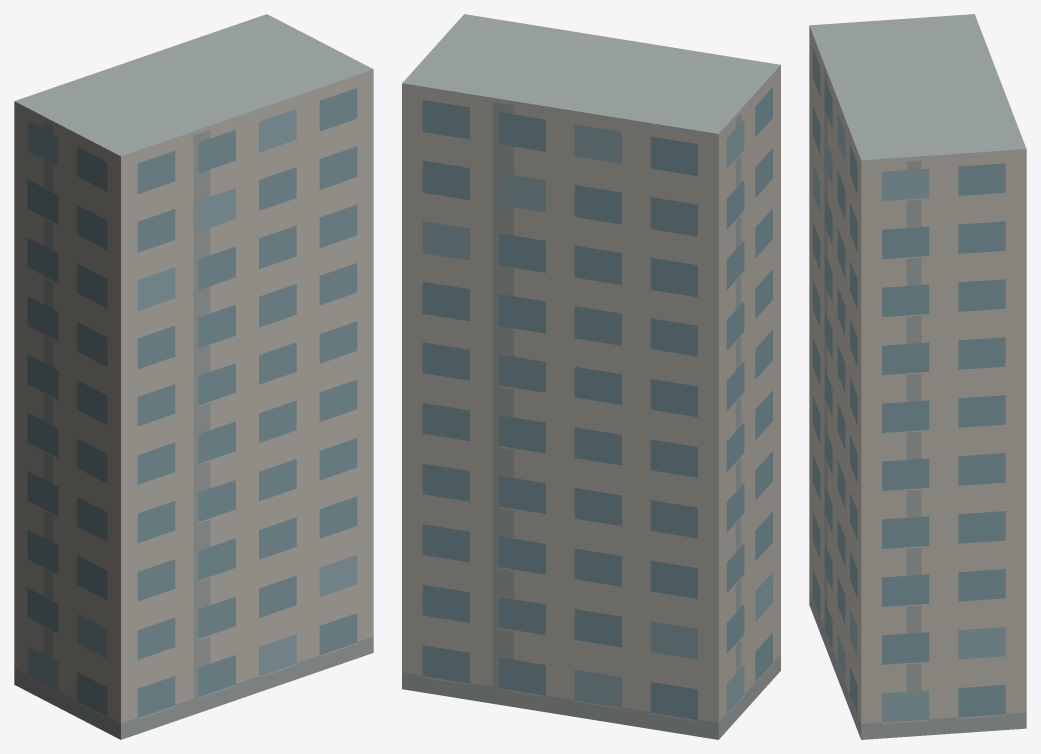
Rendered from residential-21668a2f-e6f9-4acb-ad9f-1bf739259743.glb.
The picture shows the model from 3 angles, left to right: view 1: azimuth 30°, elevation 25°; view 2: azimuth 150°, elevation 25°; view 3: azimuth 270°, elevation 25°; orthographic projection. The views are drawn at different scales.
Visible parts, largest first — view 1: residential-21668a2f-e6f9-4acb-ad9f-1bf739259743.tmp; view 2: residential-21668a2f-e6f9-4acb-ad9f-1bf739259743.tmp; view 3: residential-21668a2f-e6f9-4acb-ad9f-1bf739259743.tmp.
Part boxes in pixels (x1=…): residential-21668a2f-e6f9-4acb-ad9f-1bf739259743.tmp: x1=14, y1=14, x2=373, y2=739; residential-21668a2f-e6f9-4acb-ad9f-1bf739259743.tmp: x1=402, y1=14, x2=780, y2=739; residential-21668a2f-e6f9-4acb-ad9f-1bf739259743.tmp: x1=809, y1=14, x2=1026, y2=739.
Size of the model in its own units: 18.97 by 35 by 11.9.
